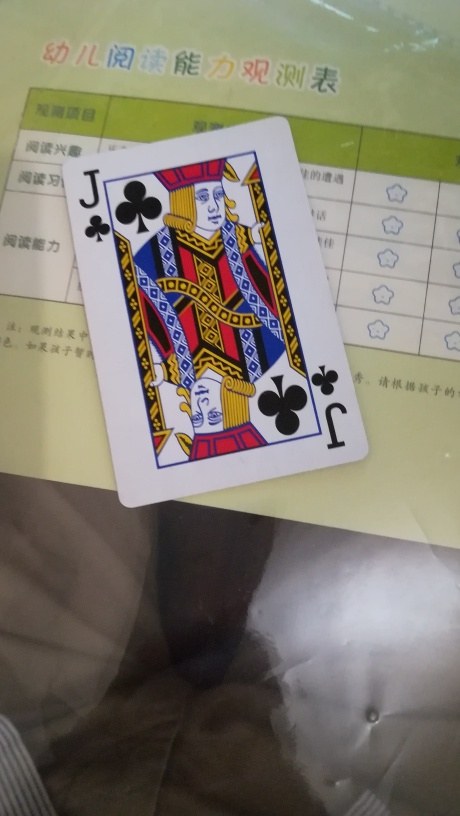mh j: (60, 118, 369, 511)
